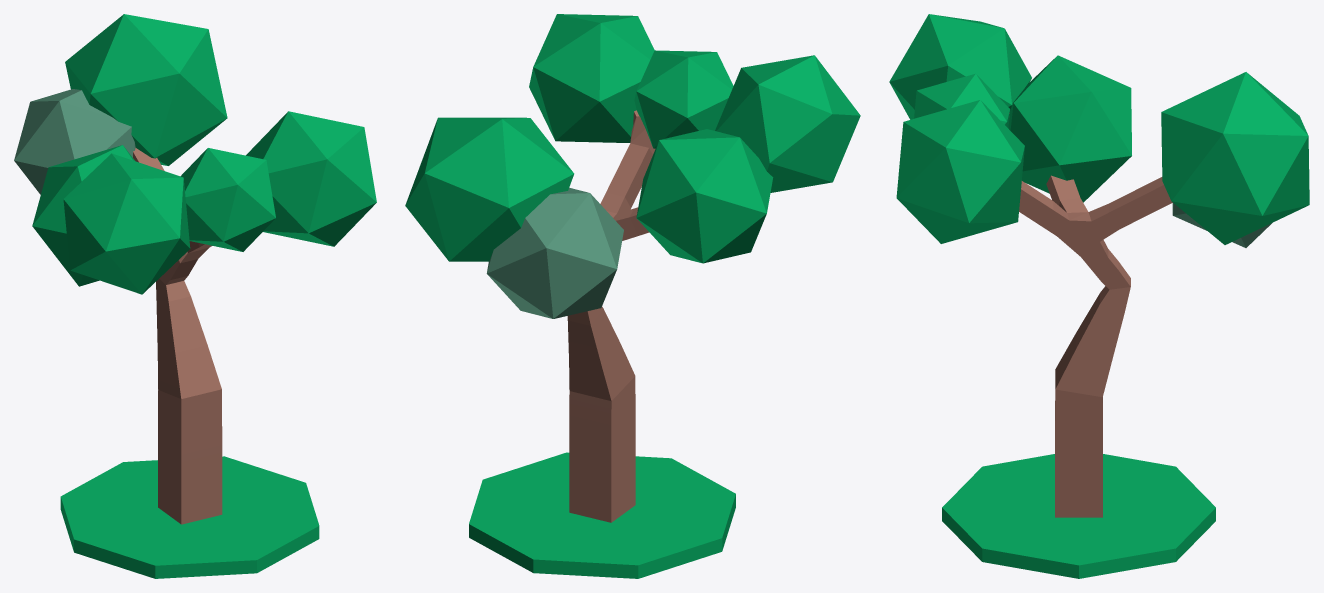
File: trees.glb
3 views of the same model, side by side, from view 1: azimuth 30°, elevation 25°; view 2: azimuth 150°, elevation 25°; view 3: azimuth 270°, elevation 25° (orthographic). The views are drawn at different scales.
Parts seen in each view (by area): view 1: Circle.002, Leaf_Tree_01.001, Cube, Leaf_Tree_01.004, Leaf_Tree_01.003, Leaf_Tree_01.006, Leaf_Tree_01.002, Leaf_Tree_01.005; view 2: Circle.002, Leaf_Tree_01.001, Cube, Leaf_Tree_01.005, Leaf_Tree_01.004, Leaf_Tree_01.003, Leaf_Tree_01.002, Leaf_Tree_01.006; view 3: Circle.002, Leaf_Tree_01.001, Cube, Leaf_Tree_01.003, Leaf_Tree_01.005, Leaf_Tree_01.004, Leaf_Tree_01.006, Leaf_Tree_01.002.
Part boxes in pixels (x1=…): Circle.002: x1=60, y1=456, x2=319, y2=578; Leaf_Tree_01.001: x1=65, y1=14, x2=227, y2=165; Cube: x1=133, y1=148, x2=222, y2=524; Leaf_Tree_01.004: x1=63, y1=153, x2=190, y2=294; Leaf_Tree_01.003: x1=246, y1=111, x2=376, y2=246; Leaf_Tree_01.006: x1=180, y1=148, x2=275, y2=251; Leaf_Tree_01.002: x1=14, y1=89, x2=135, y2=194; Leaf_Tree_01.005: x1=32, y1=145, x2=134, y2=286; Circle.002: x1=469, y1=452, x2=735, y2=578; Leaf_Tree_01.001: x1=405, y1=117, x2=574, y2=261; Cube: x1=567, y1=110, x2=655, y2=522; Leaf_Tree_01.005: x1=636, y1=129, x2=773, y2=263; Leaf_Tree_01.004: x1=715, y1=55, x2=860, y2=192; Leaf_Tree_01.003: x1=529, y1=14, x2=654, y2=142; Leaf_Tree_01.002: x1=486, y1=187, x2=623, y2=318; Leaf_Tree_01.006: x1=634, y1=50, x2=733, y2=148; Circle.002: x1=942, y1=454, x2=1215, y2=578; Leaf_Tree_01.001: x1=1161, y1=72, x2=1309, y2=244; Cube: x1=1009, y1=113, x2=1172, y2=517; Leaf_Tree_01.003: x1=896, y1=100, x2=1024, y2=243; Leaf_Tree_01.005: x1=1008, y1=55, x2=1131, y2=202; Leaf_Tree_01.004: x1=889, y1=14, x2=1031, y2=119; Leaf_Tree_01.006: x1=914, y1=73, x2=1009, y2=127; Leaf_Tree_01.002: x1=1172, y1=203, x2=1271, y2=247.
Bounding box in the file's own units: 0.7027 × 1 × 0.8351.
